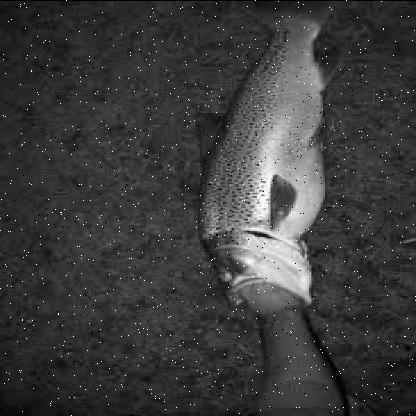fish: (190, 1, 344, 304)
